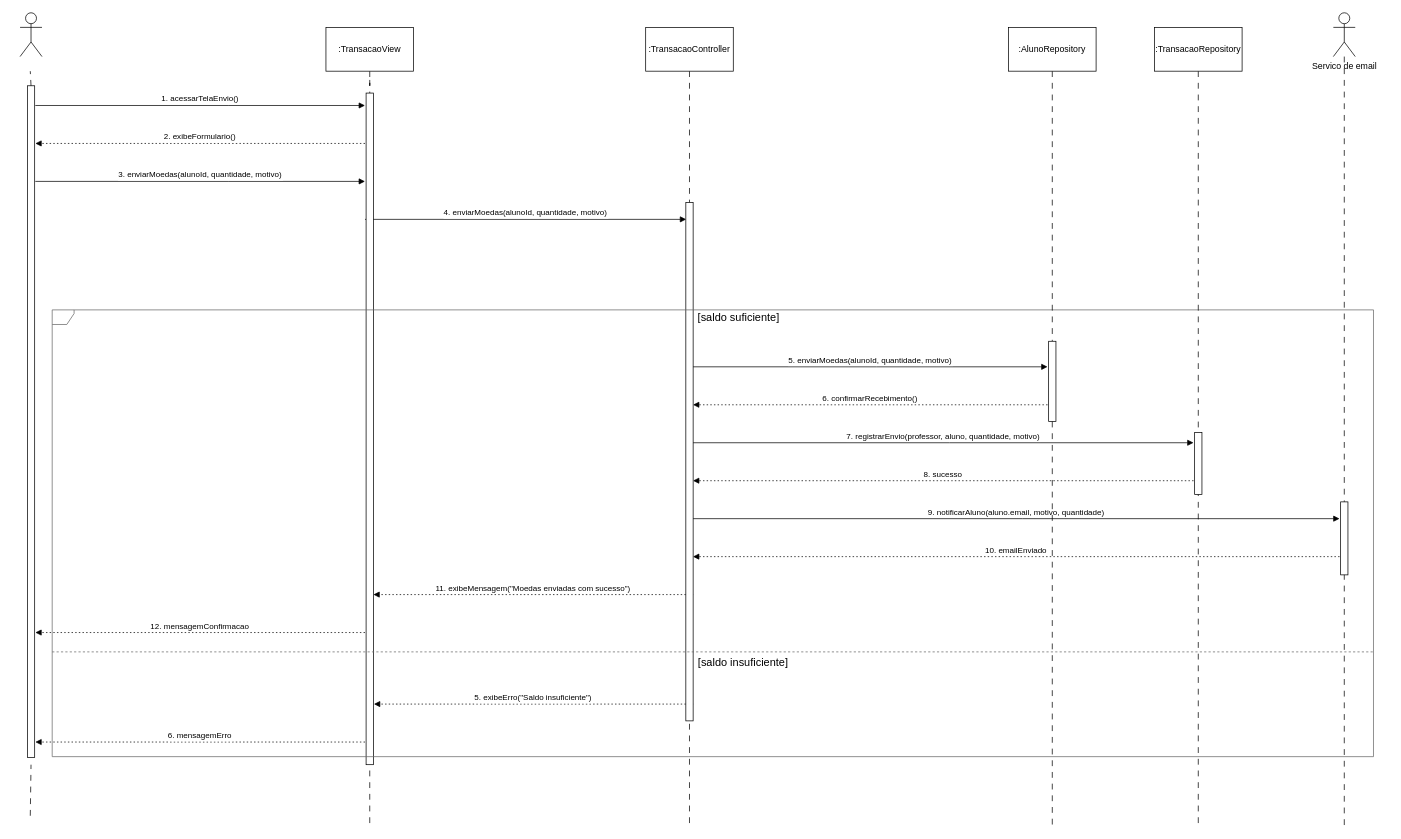
This 1401x839 diagram has some shape labels left out. Each missing label, with the box of its shape:
alt: (51, 309, 1373, 757)
Professor: (19, 12, 42, 57)
